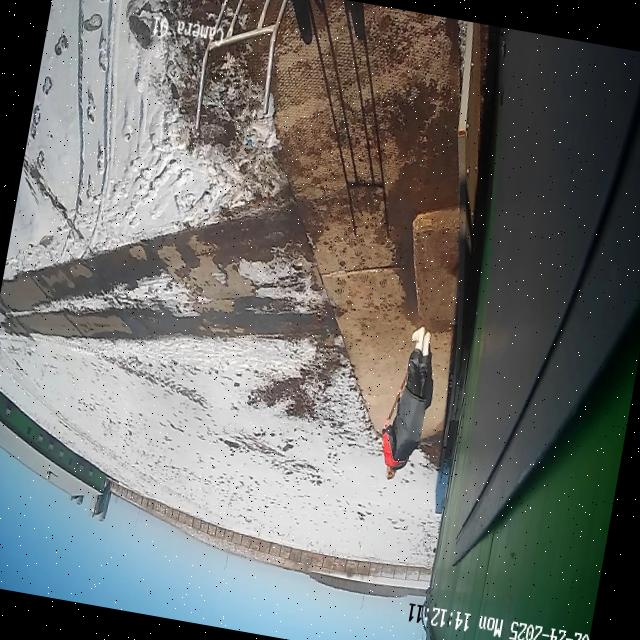Red uniform: (376, 343, 438, 474)
